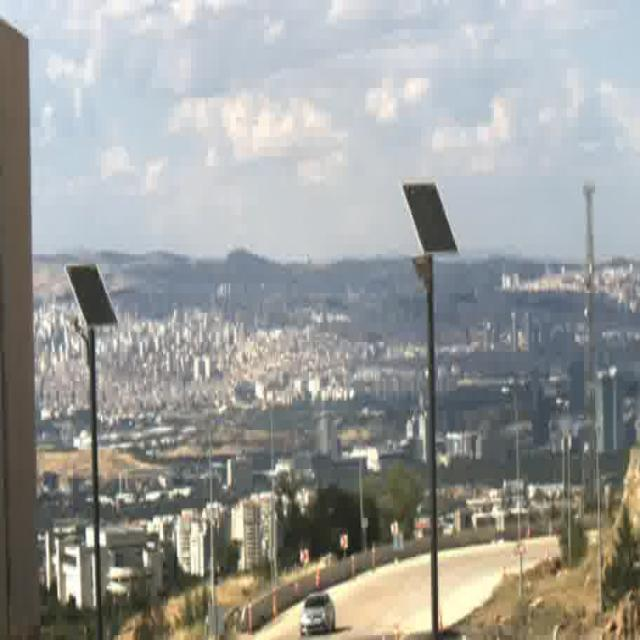Car: (300, 595, 336, 637)
